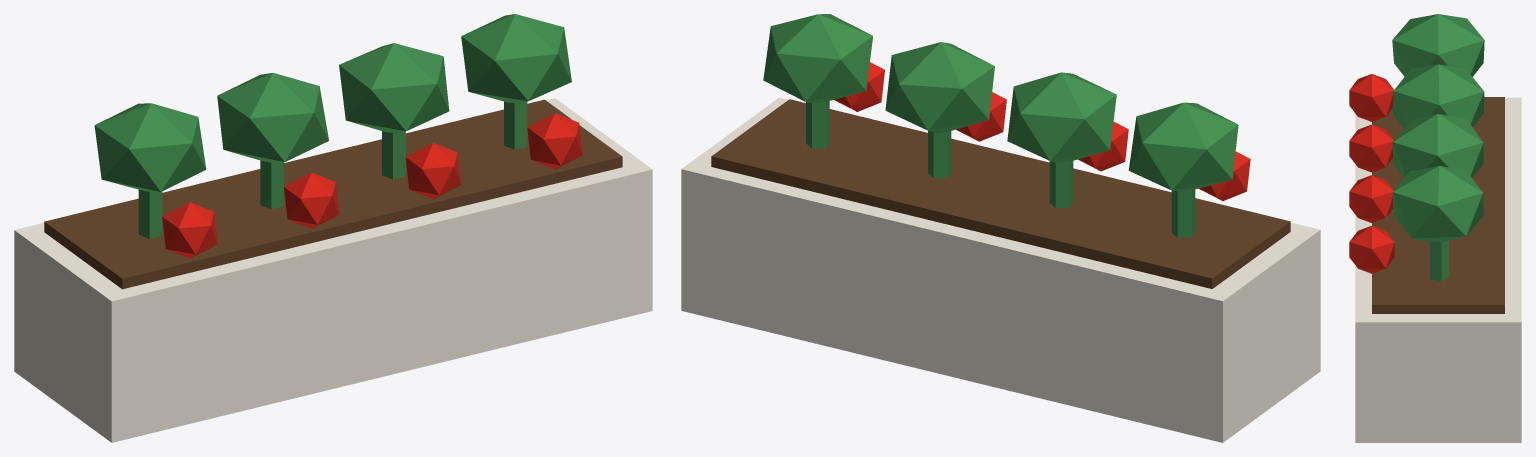
Rendered from hydro_strawberry_planter.glb.
3 renders of one model, left to right at view 1: azimuth 30°, elevation 25°; view 2: azimuth 150°, elevation 25°; view 3: azimuth 270°, elevation 25°, orthographic. The views are drawn at different scales.
Parts seen in each view (by area): view 1: strawberry_planter; view 2: strawberry_planter; view 3: strawberry_planter.
Part boxes in pixels (x1,y1,x2,y2): strawberry_planter: [14, 14, 652, 442]; strawberry_planter: [681, 14, 1320, 442]; strawberry_planter: [1349, 14, 1521, 442].
Bounding box in the file's own units: 0.8 × 0.4012 × 0.259.
